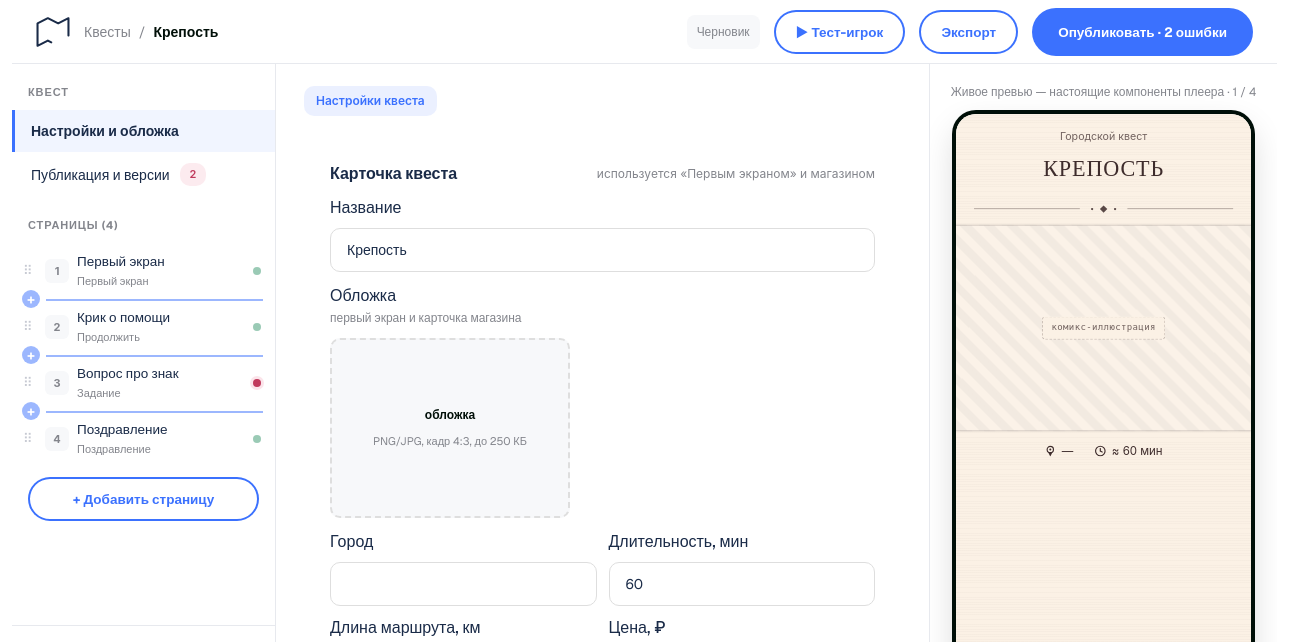
Test: меню «Новая страница» (флаг ctor_page_menu) › предлагает три шаблона по частоте и говорит, куда встанет страница
Click the button "+ Добавить страницу". click: click(144, 499)
box: [28,477,259,521]
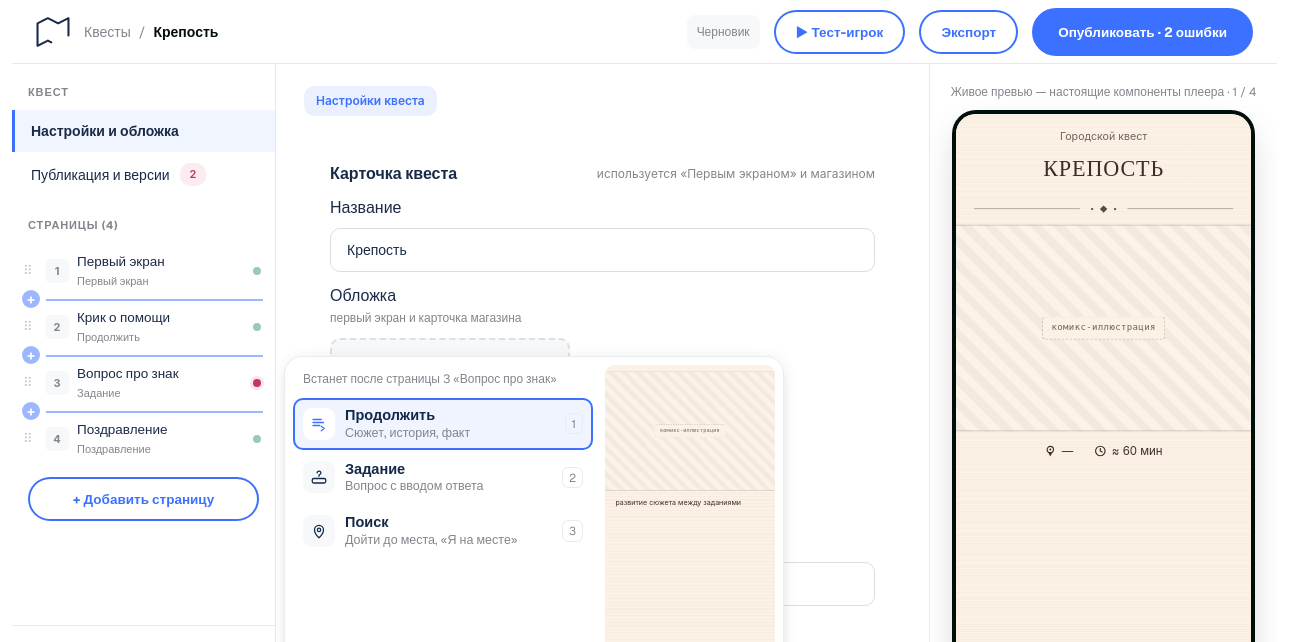
Expected: the text "Встанет после страницы 3 «Вопрос про знак»" is shown, [303,371,557,387]
